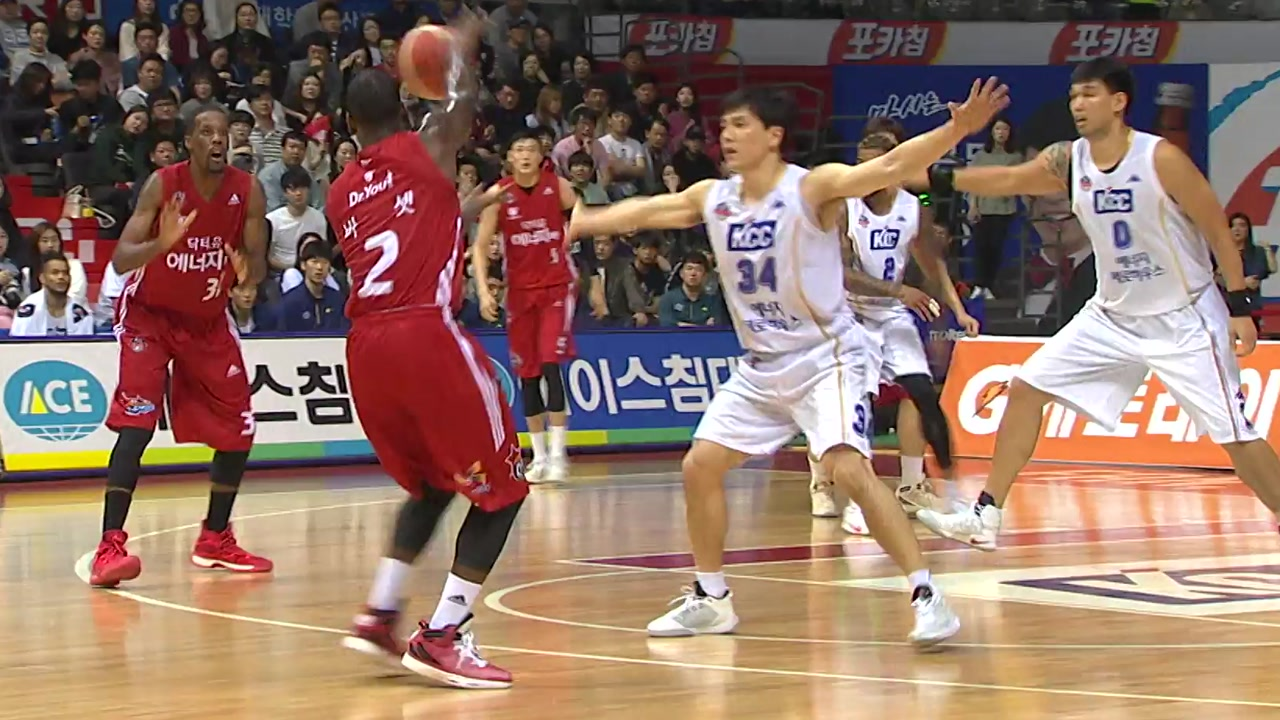defense: (570, 77, 1031, 666)
pass: (308, 10, 546, 701)
stand: (102, 82, 286, 597)
